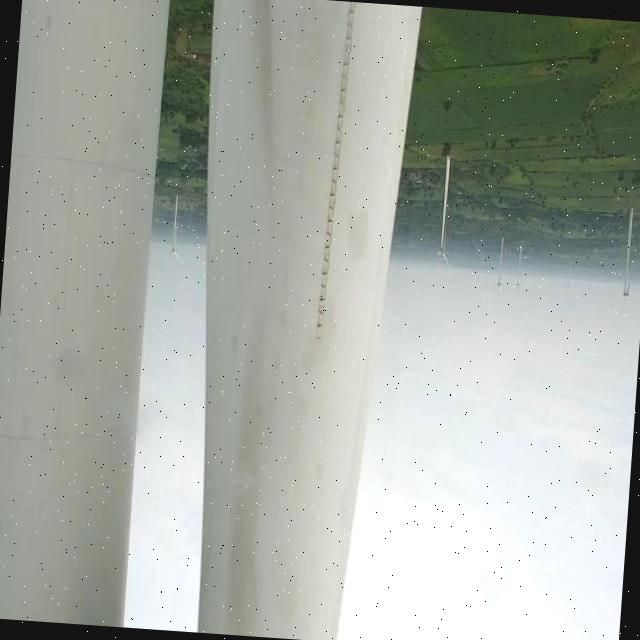Dirt: (219, 0, 319, 629)
